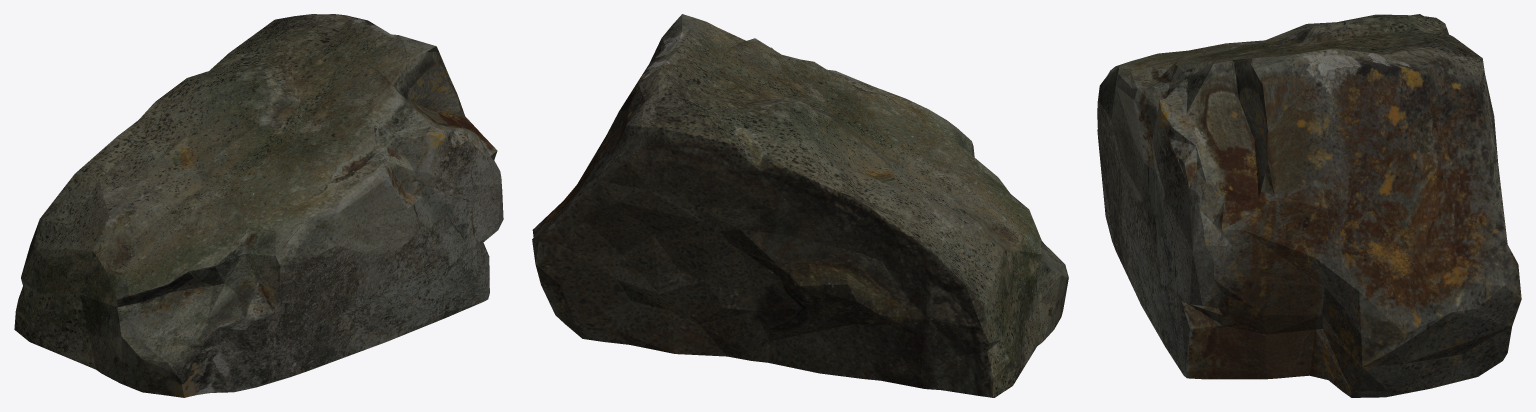
File: s3drockm01.gltf
3 views of the same model, side by side, from view 1: azimuth 30°, elevation 25°; view 2: azimuth 150°, elevation 25°; view 3: azimuth 270°, elevation 25° (orthographic). The views are drawn at different scales.
Visible parts, largest first — view 1: rockm01:7; view 2: rockm01:7; view 3: rockm01:7.
Boxes of the visible parts, box(x1,y1,x2,y2) form: rockm01:7: box(14, 14, 503, 397); rockm01:7: box(532, 14, 1068, 397); rockm01:7: box(1097, 14, 1521, 397).
Size of the model in its own units: 2.44 by 1.26 by 1.64.
Materials: 1 (1 with a texture image).
